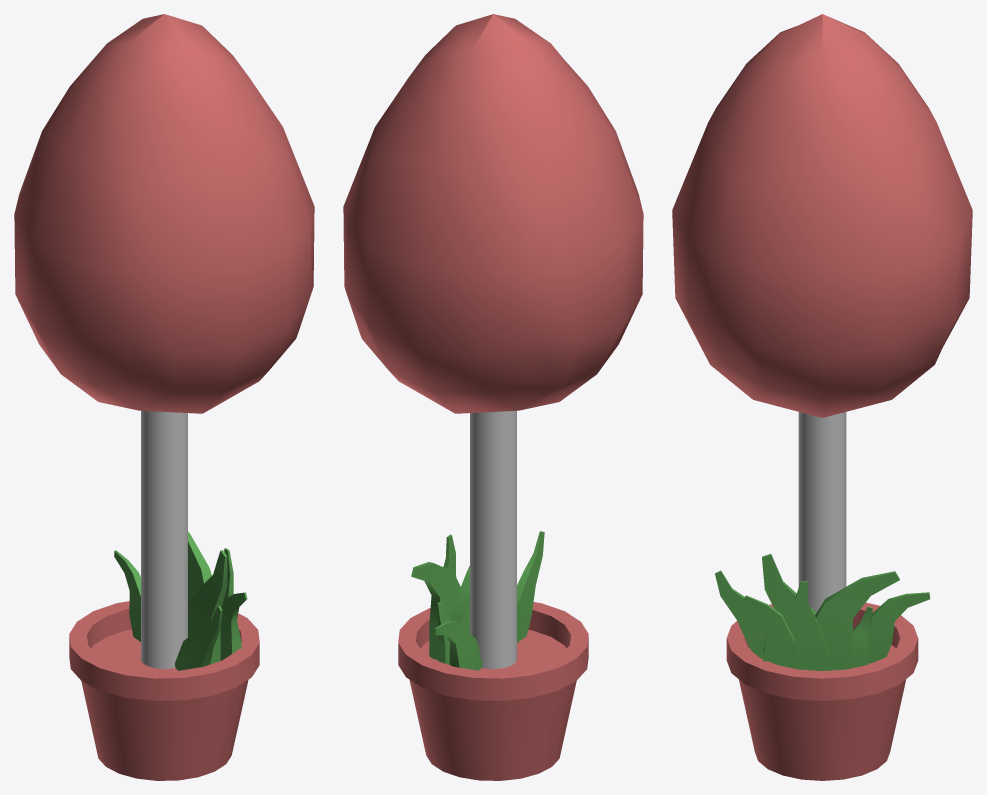
File: Inside_Tree_M.fbx
3 renders of one model, left to right at view 1: azimuth 30°, elevation 25°; view 2: azimuth 150°, elevation 25°; view 3: azimuth 270°, elevation 25°, orthographic.
Parts seen in each view (by area): view 1: Leafes, Inside_Tree, Stump, Würfel_3, Würfel_1, Würfel_5, Würfel_7, Würfel_2; view 2: Leafes, Inside_Tree, Stump, Würfel_2, Würfel_1, Würfel_7, Würfel_3, Würfel_6; view 3: Leafes, Inside_Tree, Stump, Würfel_2, Würfel_4, Würfel_7, Würfel_5, Würfel_1, Würfel_3, Würfel_6.
Part boxes in pixels (x1,y1,x2,y2): Leafes: [14, 14, 314, 413]; Inside_Tree: [69, 601, 259, 780]; Stump: [141, 410, 187, 668]; Würfel_3: [188, 550, 227, 664]; Würfel_1: [175, 605, 222, 670]; Würfel_5: [220, 592, 247, 660]; Würfel_7: [114, 550, 140, 641]; Würfel_2: [188, 531, 211, 602]; Leafes: [343, 14, 643, 413]; Inside_Tree: [398, 602, 588, 780]; Stump: [470, 410, 516, 668]; Würfel_2: [411, 562, 460, 659]; Würfel_1: [517, 531, 544, 642]; Würfel_7: [434, 620, 482, 670]; Würfel_3: [450, 565, 469, 632]; Würfel_6: [437, 601, 450, 664]; Leafes: [672, 14, 972, 417]; Inside_Tree: [726, 602, 918, 780]; Stump: [798, 412, 846, 612]; Würfel_2: [815, 571, 899, 670]; Würfel_4: [793, 581, 831, 670]; Würfel_7: [868, 592, 930, 663]; Würfel_5: [743, 595, 794, 668]; Würfel_1: [715, 570, 767, 658]; Würfel_3: [762, 554, 816, 639]; Würfel_6: [852, 606, 872, 668].
Size of the model in its own units: 200 by 542 by 200.
